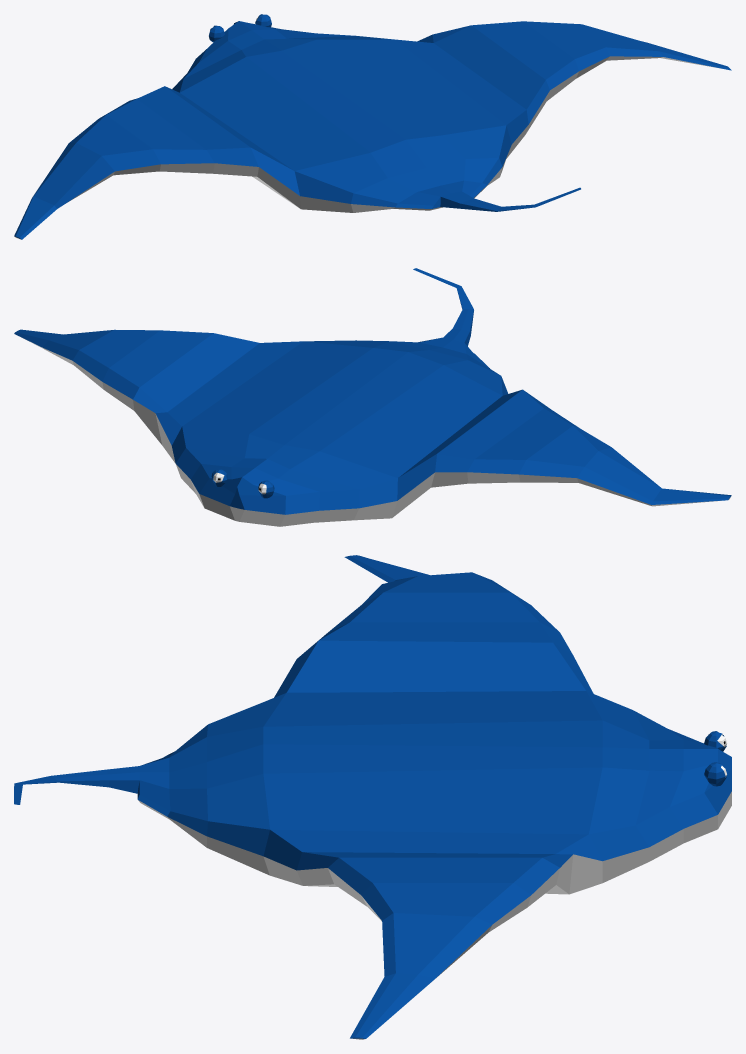
File: MantaRaya.fbx
3 renders of one model, top to bottom at view 1: azimuth 30°, elevation 25°; view 2: azimuth 150°, elevation 25°; view 3: azimuth 270°, elevation 25°, orthographic. The views are drawn at different scales.
Visible parts, largest first — view 1: Cube; view 2: Cube; view 3: Cube.
Part boxes in pixels (x1,y1,x2,y2): Cube: [14, 14, 731, 239]; Cube: [14, 268, 731, 526]; Cube: [14, 555, 731, 1039].
Bounding box in the file's own units: 188 × 18.34 × 120.
